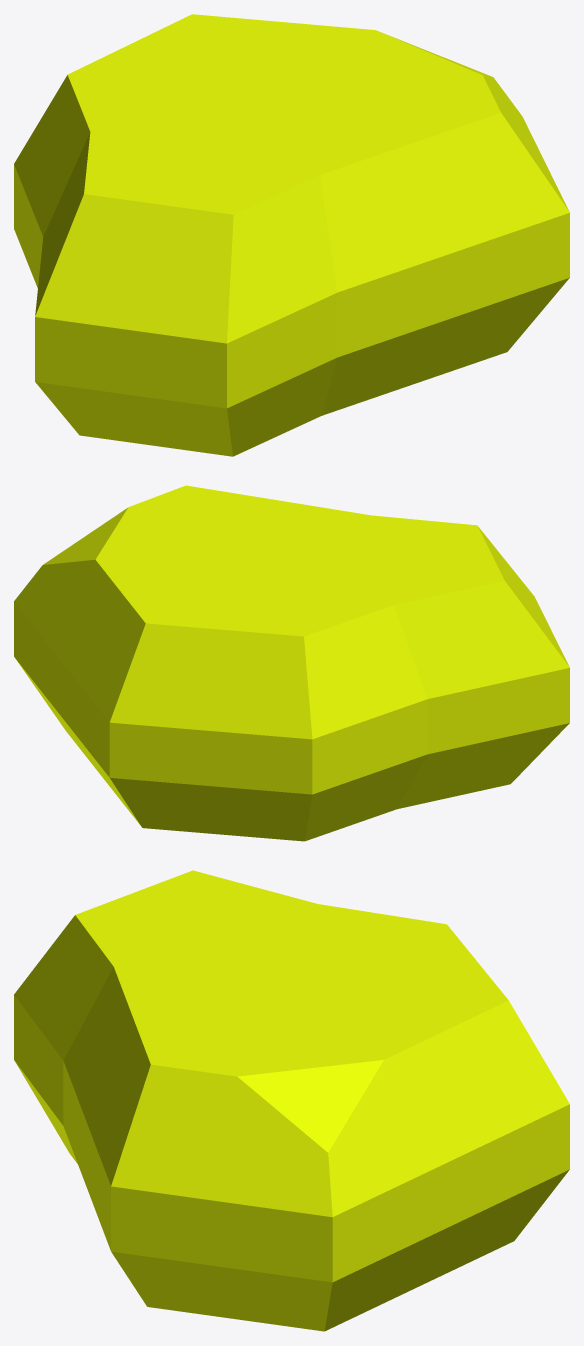
File: gold.glb
3 renders of one model, top to bottom at view 1: azimuth 30°, elevation 25°; view 2: azimuth 150°, elevation 25°; view 3: azimuth 270°, elevation 25°, orthographic. The views are drawn at different scales.
Parts seen in each view (by area): view 1: mergedBlocks(Clone); view 2: mergedBlocks(Clone); view 3: mergedBlocks(Clone).
Part boxes in pixels (x1=…): mergedBlocks(Clone): x1=14, y1=14, x2=569, y2=456; mergedBlocks(Clone): x1=14, y1=485, x2=569, y2=841; mergedBlocks(Clone): x1=14, y1=870, x2=569, y2=1331.
Size of the model in its own units: 0.1095 by 0.0438 by 0.092.
Materials: 1 (1 with a texture image).
